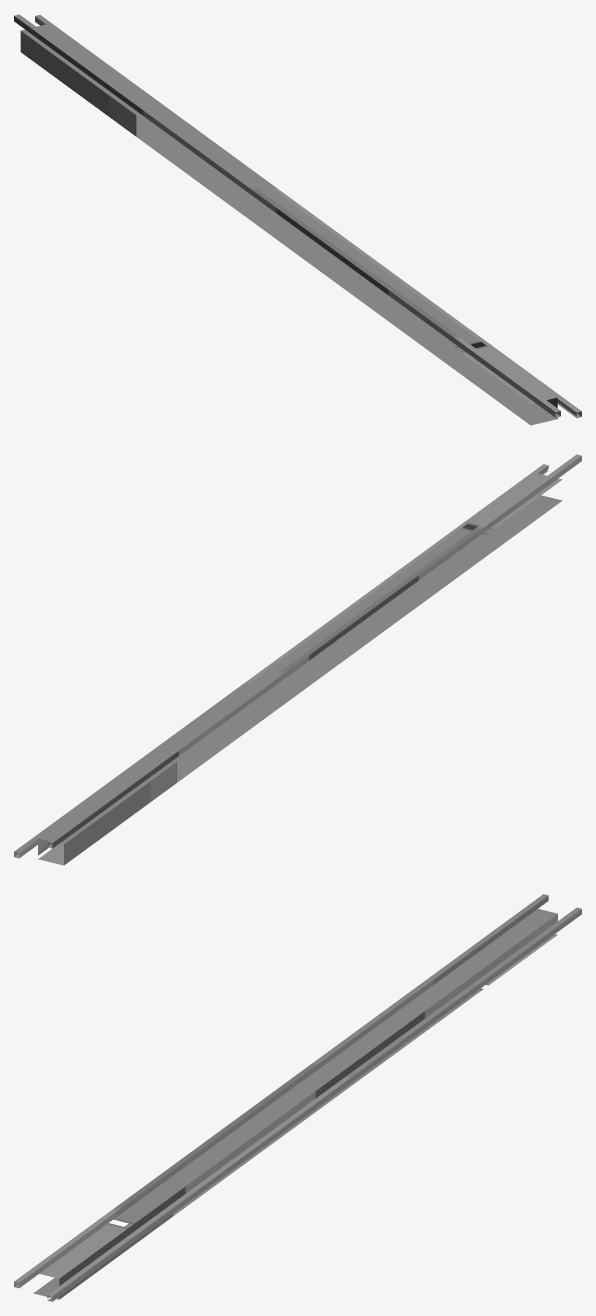
The picture shows the model from 3 angles, top to bottom: view 1: azimuth 30°, elevation 25°; view 2: azimuth 150°, elevation 25°; view 3: azimuth 330°, elevation 25°; orthographic projection. The views are drawn at different scales.
Bounding box in the file's own units: 0.0936 × 0.0732 × 2.51.
